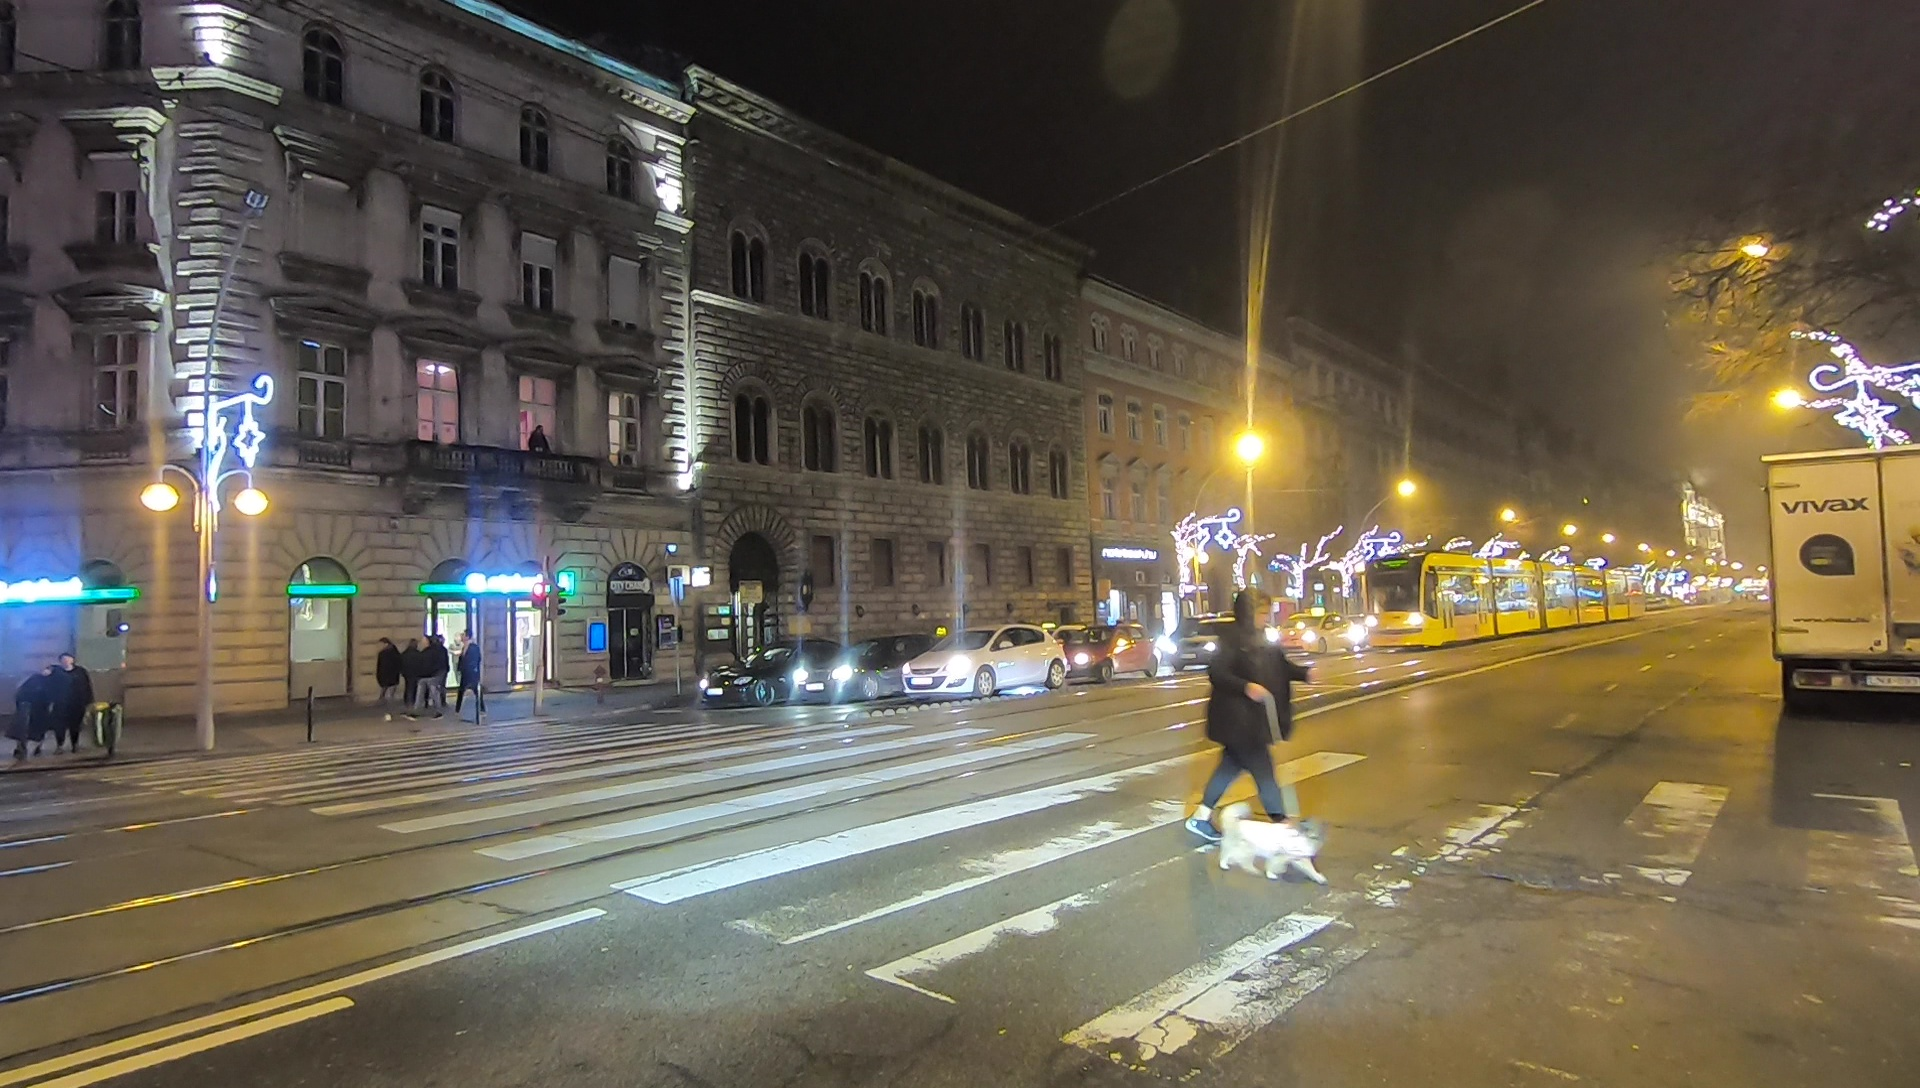person: (1199, 587, 1301, 839), (12, 660, 54, 760), (56, 652, 91, 756), (417, 636, 452, 717), (458, 636, 484, 713), (375, 636, 401, 708)
